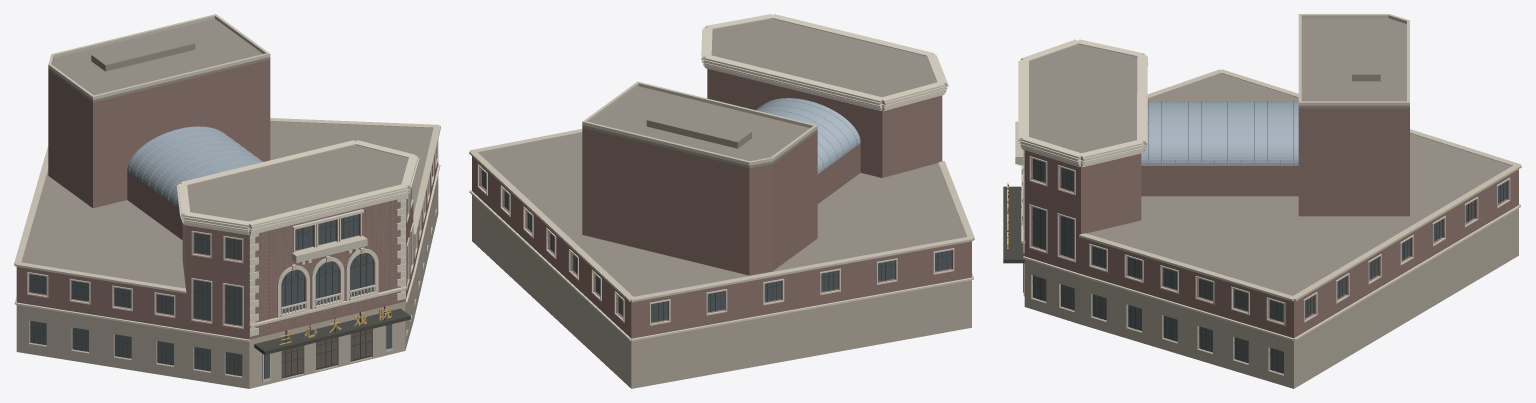
The model's file is huangpu-lyceum-theatre-raw.glb.
3 renders of one model, left to right at view 1: azimuth 30°, elevation 25°; view 2: azimuth 150°, elevation 25°; view 3: azimuth 270°, elevation 25°, orthographic. The views are drawn at different scales.
Visible parts, largest first — view 1: 兰心大戏院（茂名南路57号）; view 2: 兰心大戏院（茂名南路57号）; view 3: 兰心大戏院（茂名南路57号）.
Boxes of the visible parts, x1=… form: 兰心大戏院（茂名南路57号）: x1=14, y1=14, x2=440, y2=388; 兰心大戏院（茂名南路57号）: x1=469, y1=14, x2=974, y2=388; 兰心大戏院（茂名南路57号）: x1=1003, y1=14, x2=1521, y2=388.
Bounding box in the file's own units: 55.6 × 23.33 × 52.88.
